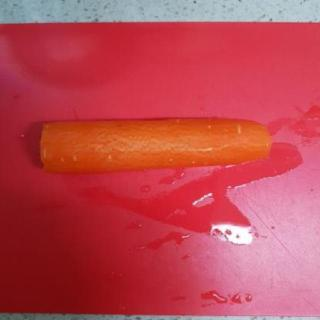carrot: (36, 116, 278, 170)
